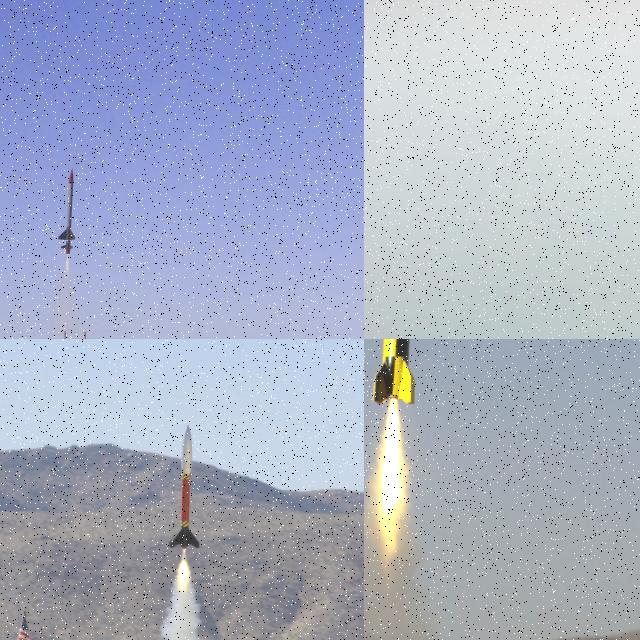Rocket: (168, 423, 201, 550), (372, 339, 419, 406), (58, 167, 76, 254)
